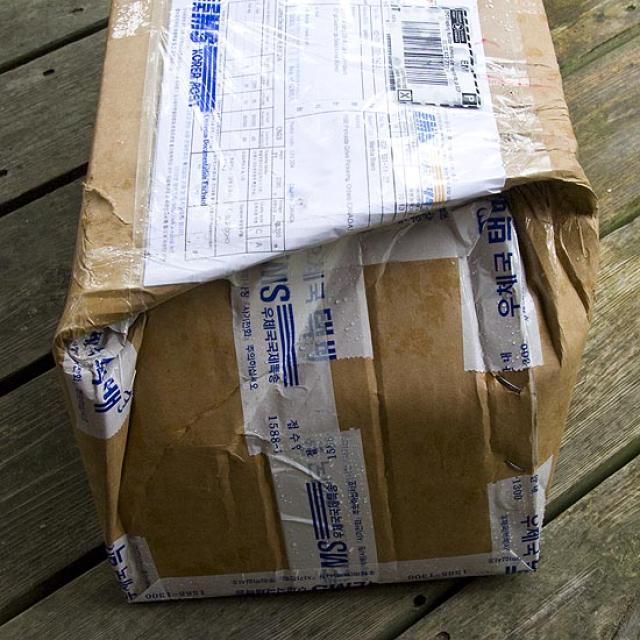Kardus kondisi rusak: (51, 1, 604, 604)
